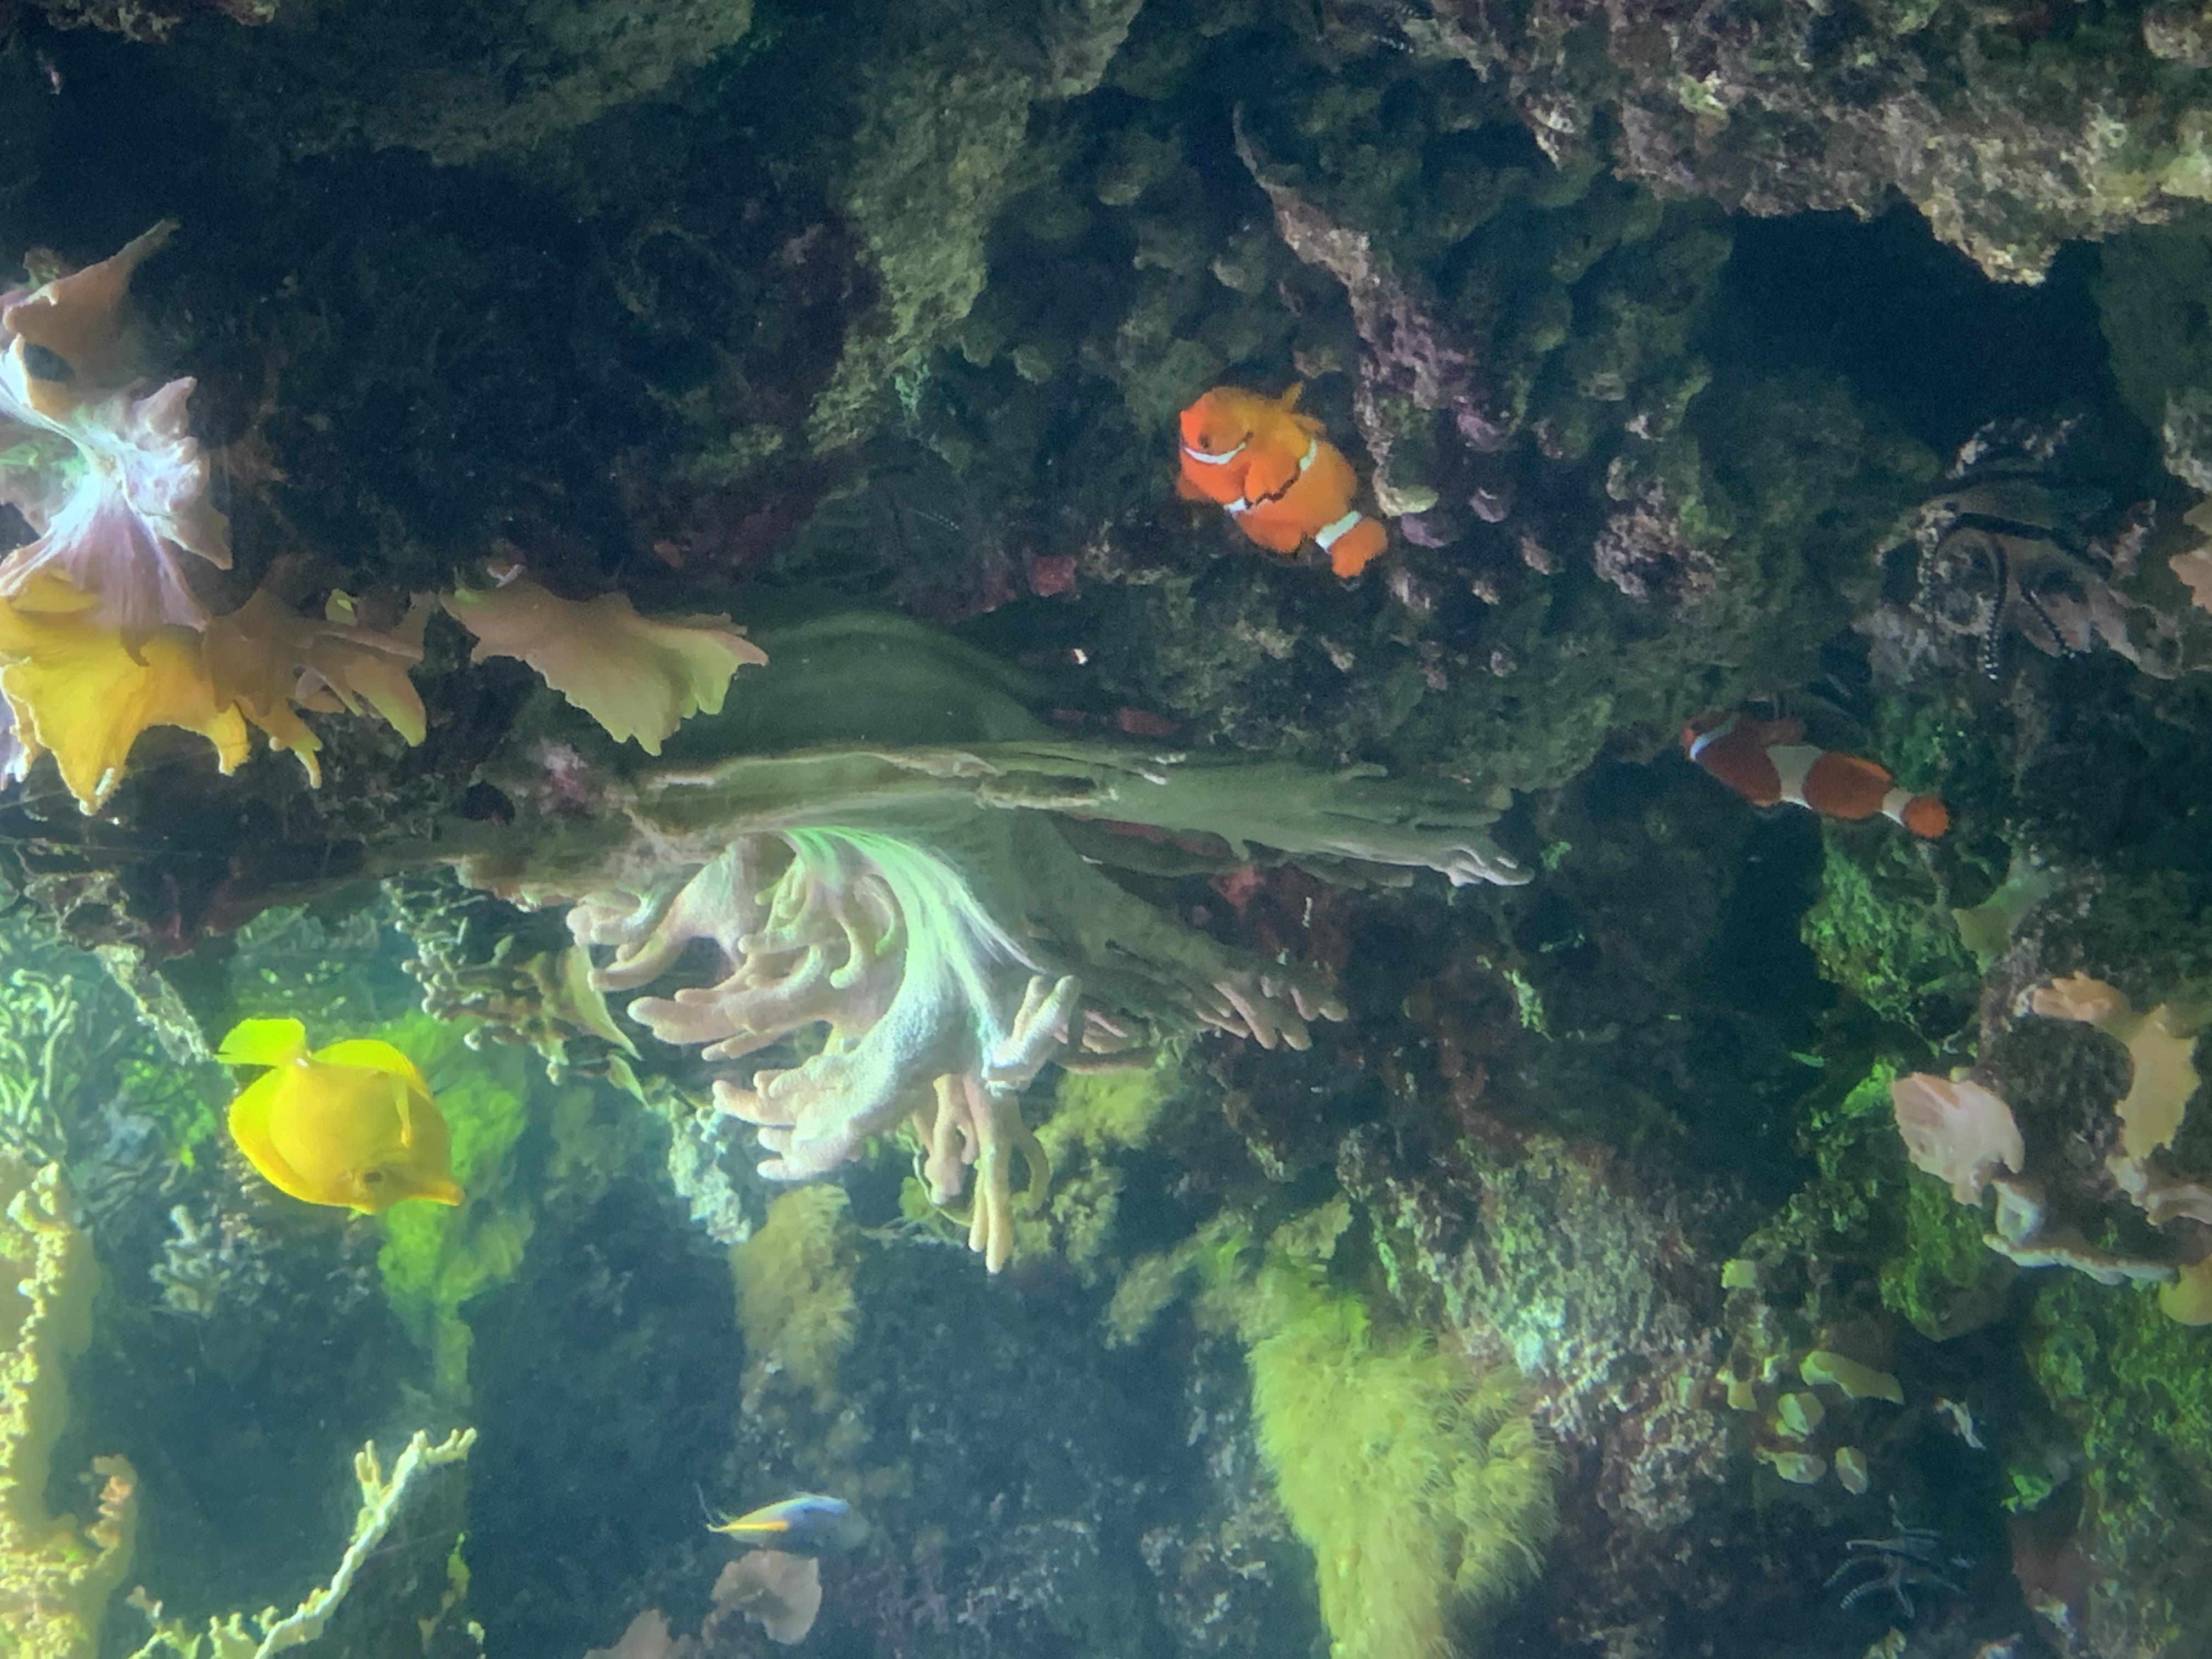fish: (211, 1011, 467, 1220), (1162, 371, 1399, 582), (1670, 695, 1961, 843), (690, 1476, 881, 1568)
